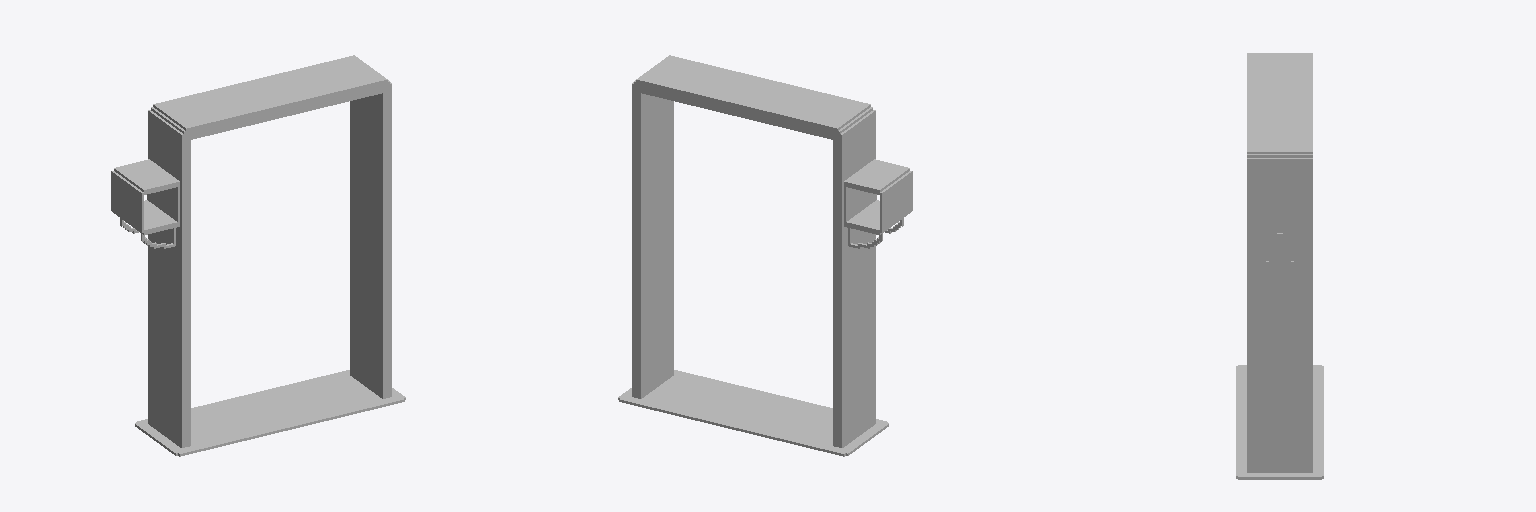
The model's file is Portal.obj.
The picture shows the model from 3 angles: view 1: azimuth 30°, elevation 25°; view 2: azimuth 150°, elevation 25°; view 3: azimuth 270°, elevation 25°; orthographic projection.
Parts seen in each view (by area): view 1: object 1; view 2: object 1; view 3: object 1.
Part boxes in pixels (x1,y1,x2,y2): object 1: (111,55,405,456); object 1: (618,55,912,456); object 1: (1236,53,1323,479).
Bounding box in the file's own units: 10.8 × 12.8 × 3.2.